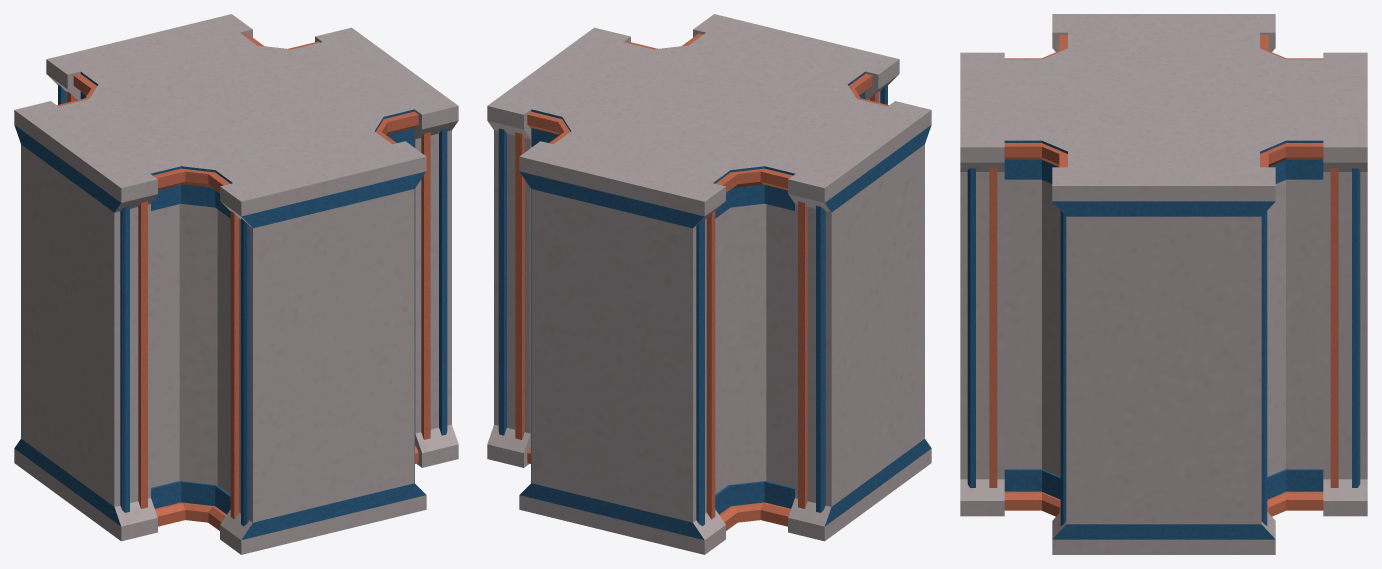
File: JunctionWall01.fbx
3 renders of one model, left to right at view 1: azimuth 30°, elevation 25°; view 2: azimuth 150°, elevation 25°; view 3: azimuth 270°, elevation 25°, orthographic. The views are drawn at different scales.
Visible parts, largest first — view 1: Junction-Wall; view 2: Junction-Wall; view 3: Junction-Wall.
Boxes of the visible parts, box(x1,y1,x2,y2) form: Junction-Wall: box(14, 14, 458, 554); Junction-Wall: box(487, 14, 931, 554); Junction-Wall: box(960, 14, 1367, 554).
Bounding box in the file's own units: 1000 × 1000 × 1000.
